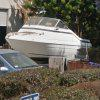Boat: (5, 9, 90, 63)
